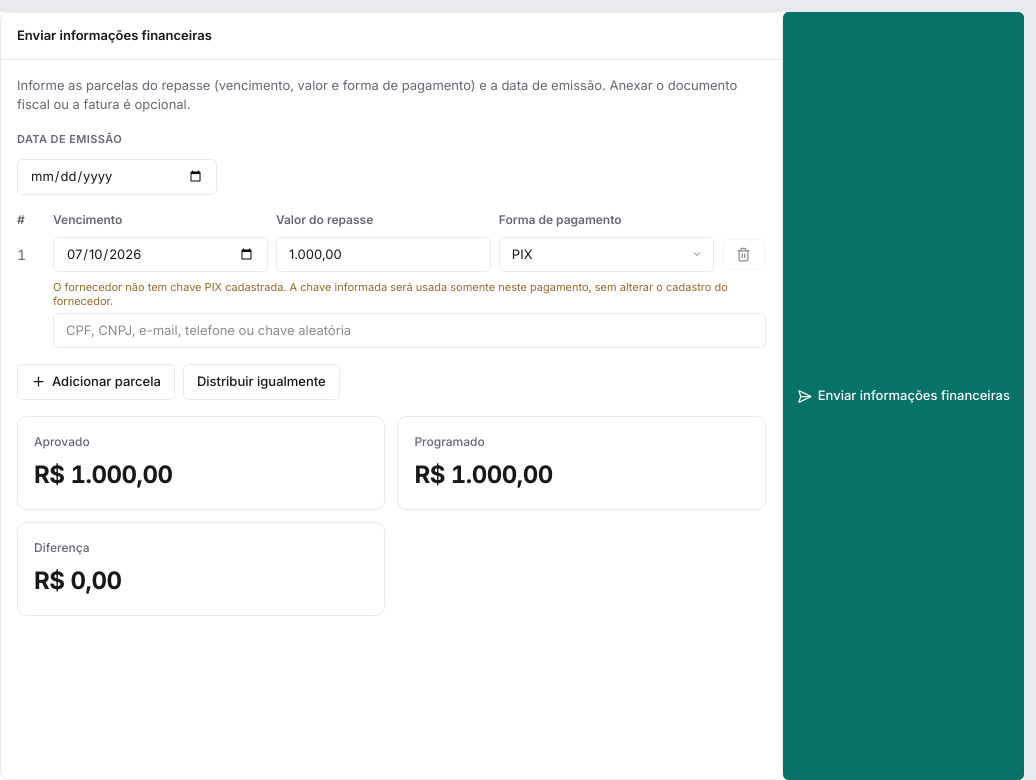
Scenario: FinancialComplementForm › sinaliza convênio quando a linha digitável começa com 8
This screenshot has width=1036, height=780.
Select "Boleto" in the dropdown: (606, 254) [499, 236, 714, 272]
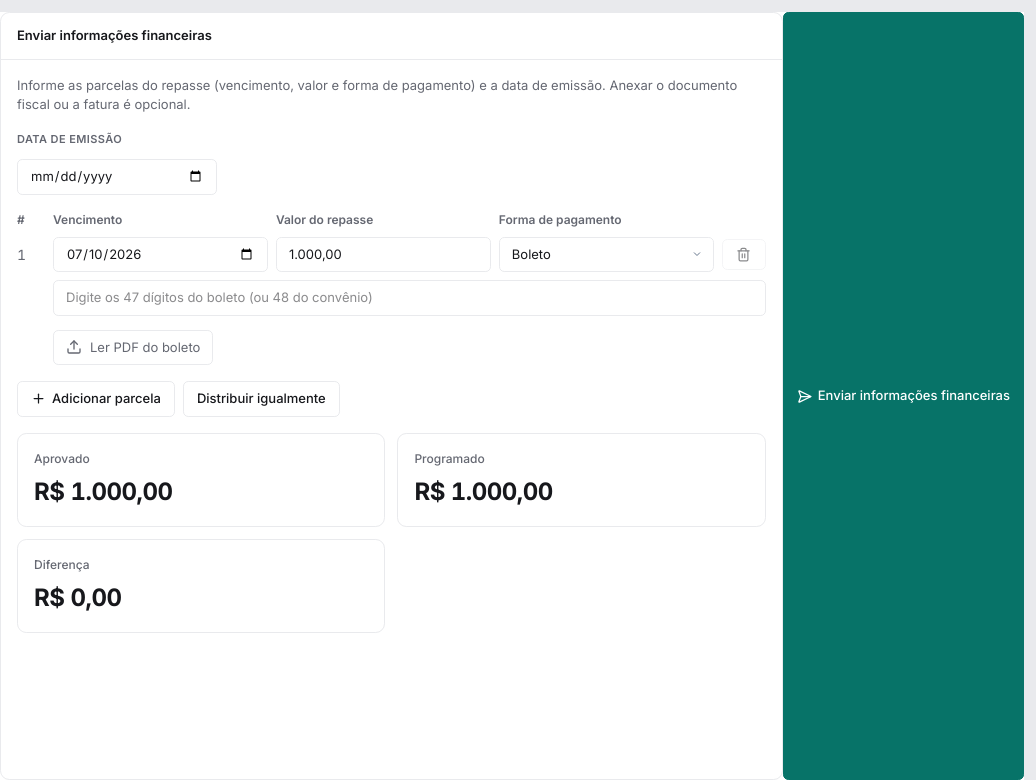
In the field named "Linha digitável do boleto": (409, 298) [53, 280, 766, 316], type "23793381286008271309005678911101234560000010000"
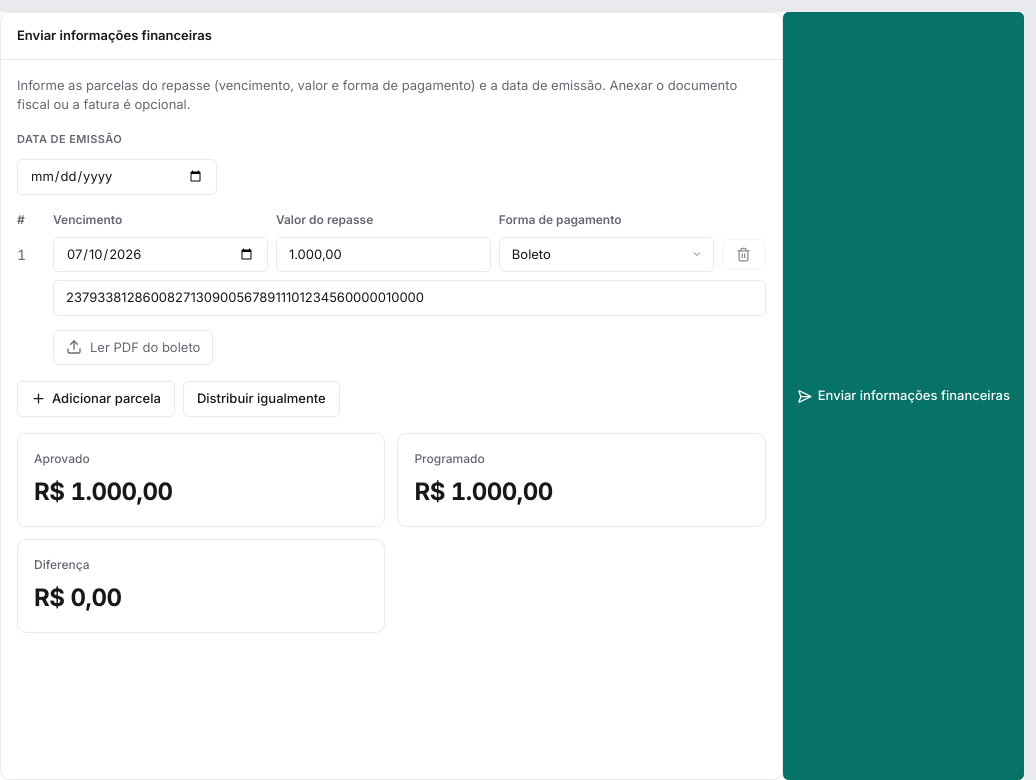
Expected: the text "Convênio" is not shown
Replace the text in the field named "Linha digitável do boleto" with "846700000017599200241114202410000000000000000000": (409, 298) [53, 280, 766, 316]
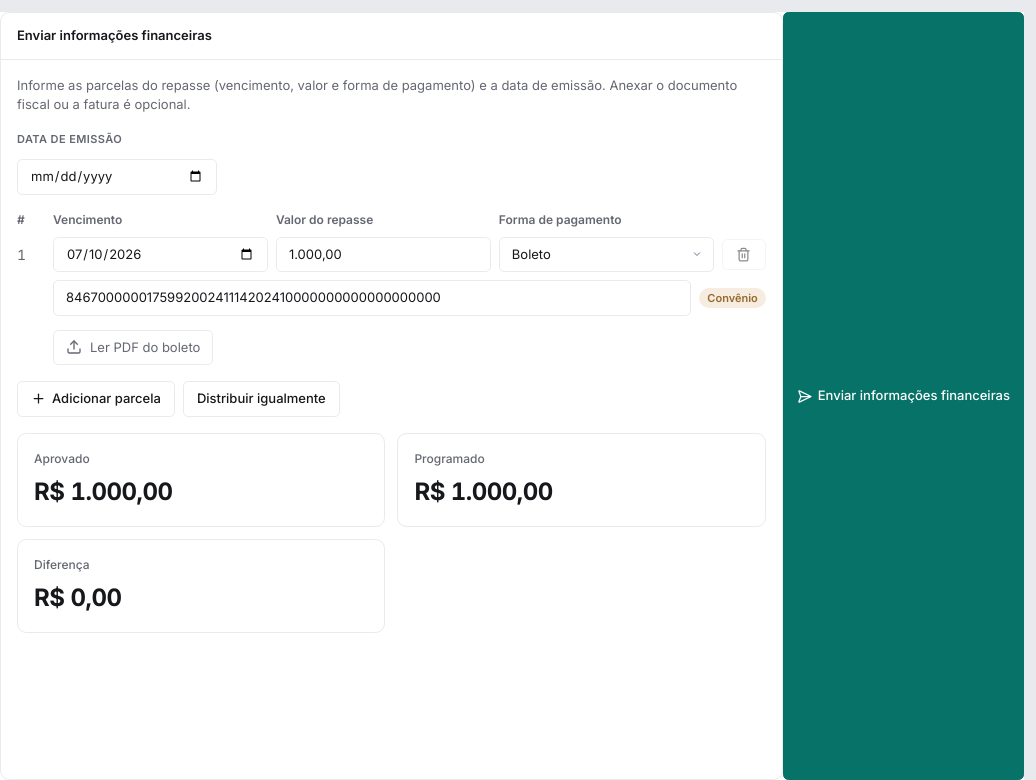
Expected: the text "Convênio" is shown, [699, 288, 766, 308]
